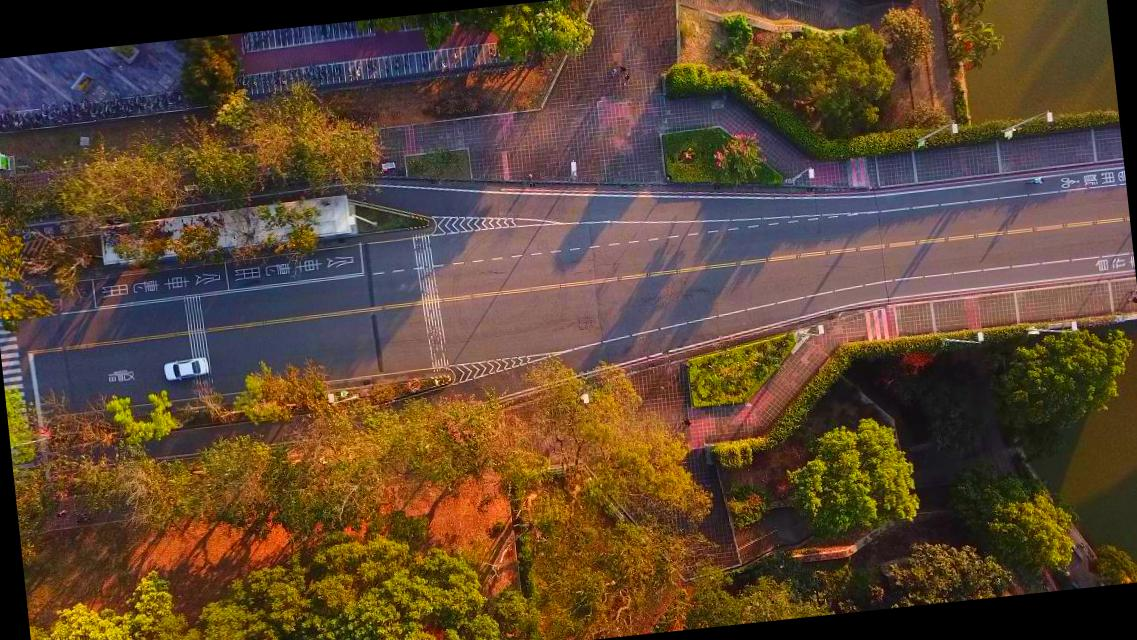vehicle: (162, 357, 209, 382)
